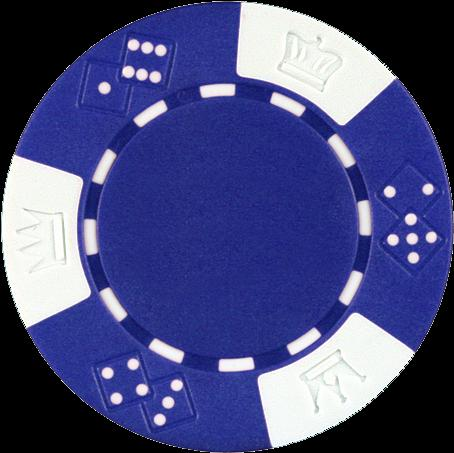chip-blue: (2, 3, 452, 451)
